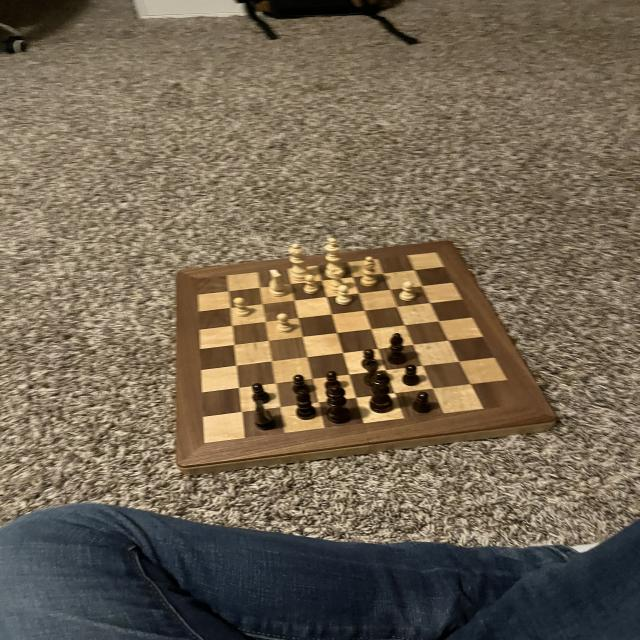bishop: (293, 387, 318, 421), (385, 332, 408, 366)
black-bishop: (368, 370, 395, 415)
black-king: (248, 400, 278, 433)
black-knight: (250, 382, 272, 405), (401, 363, 422, 387), (324, 369, 345, 392), (291, 372, 311, 396), (414, 392, 434, 416), (361, 348, 381, 370)
black-pawn: (322, 385, 356, 425)
black-queen: (362, 359, 382, 386)
black-rook: (358, 255, 382, 289)
white-bishop: (322, 236, 347, 278)
white-king: (266, 268, 291, 298)
white-knight: (233, 295, 252, 319), (398, 280, 418, 302), (274, 312, 293, 335), (333, 283, 352, 305), (302, 273, 320, 295)
white-pawn: (286, 242, 311, 282)
white-queen: (326, 266, 346, 296)
